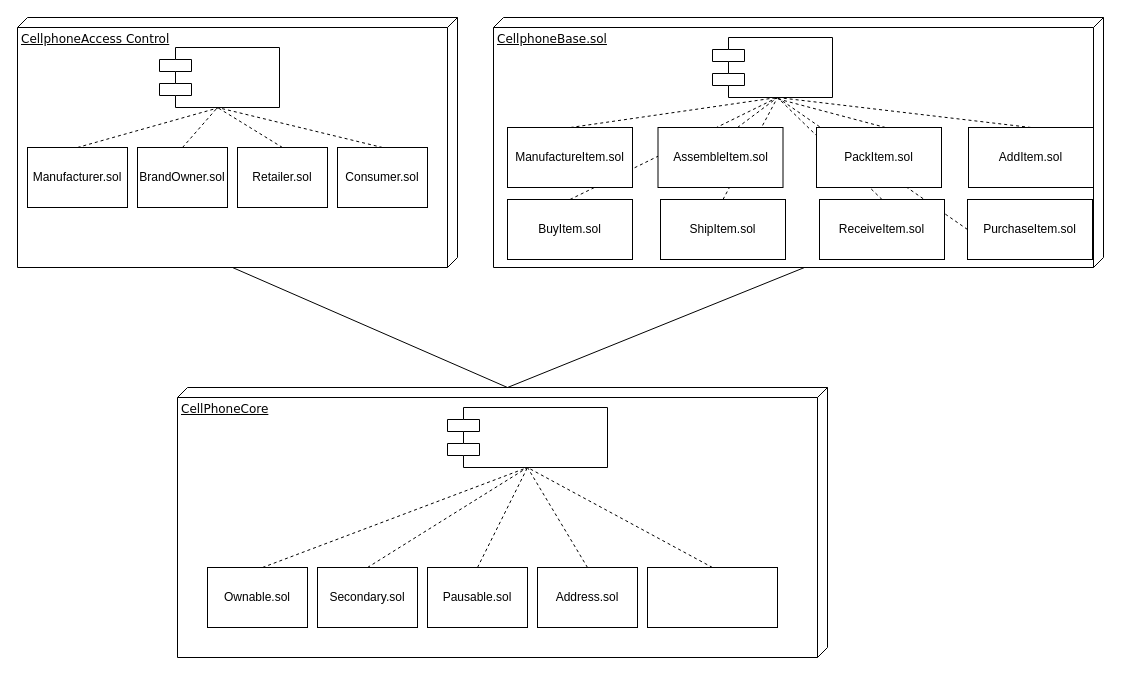
The diagram is 1121 pixels wide and 675 high, and some of its shapes have lost their labels. The centre of each missing label's shape, as x and y in pixels:
"Module" belongs at pixel 772 67.
"ReentrancyGuard.sol" belongs at pixel 712 597.
"Roles.sol" belongs at pixel 219 77.
"ValueChain.sol" belongs at pixel 527 437.
